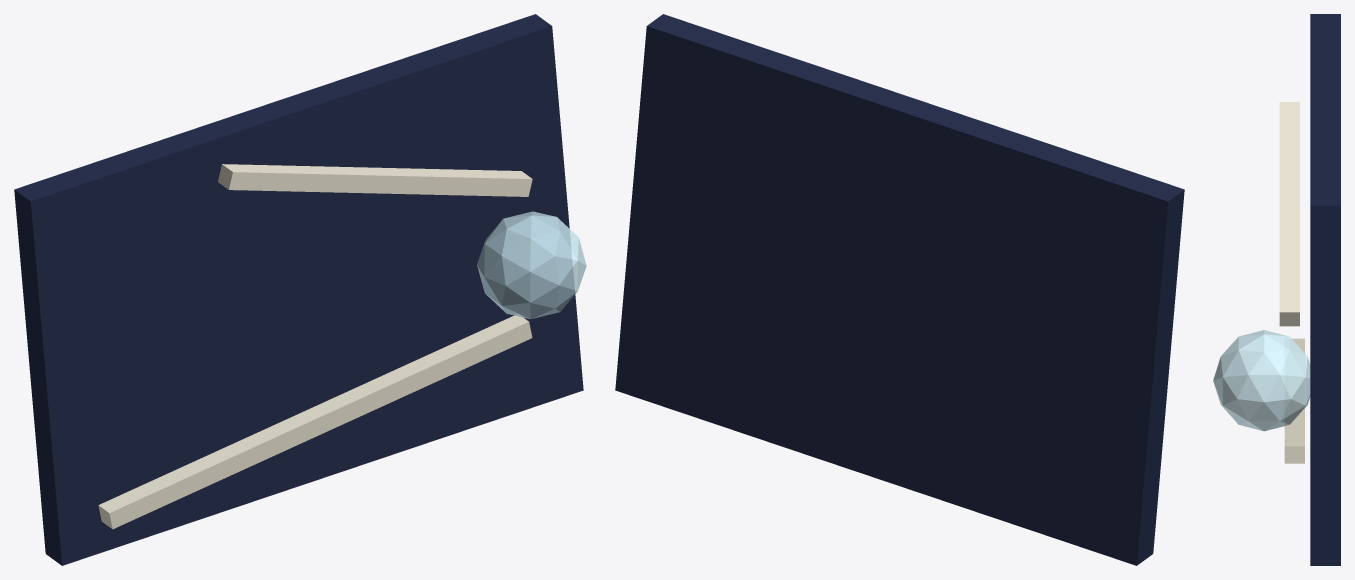
File: 02_world_prop_polish.glb
3 renders of one model, left to right at view 1: azimuth 30°, elevation 25°; view 2: azimuth 150°, elevation 25°; view 3: azimuth 270°, elevation 25°, orthographic. The views are drawn at different scales.
Visible parts, largest first — view 1: object_overlay_plate, edge_wear_a, glow_socket, edge_wear_b; view 2: object_overlay_plate; view 3: object_overlay_plate, glow_socket, edge_wear_b, edge_wear_a.
Part boxes in pixels (x1,y1,x2,y2): object_overlay_plate: (14, 14, 583, 565); edge_wear_a: (98, 315, 532, 529); glow_socket: (477, 211, 586, 319); edge_wear_b: (218, 164, 532, 196); object_overlay_plate: (615, 14, 1184, 565); object_overlay_plate: (1310, 14, 1340, 565); glow_socket: (1213, 330, 1310, 431); edge_wear_b: (1279, 102, 1299, 326); edge_wear_a: (1284, 338, 1304, 463).
Bounding box in the file's own units: 1.16 × 0.844 × 0.25.
